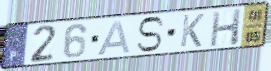2: (28, 24, 58, 65)
6: (61, 23, 89, 60)
A: (95, 19, 132, 57)
H: (208, 7, 244, 49)
K: (178, 13, 206, 49)
S: (135, 15, 167, 54)
